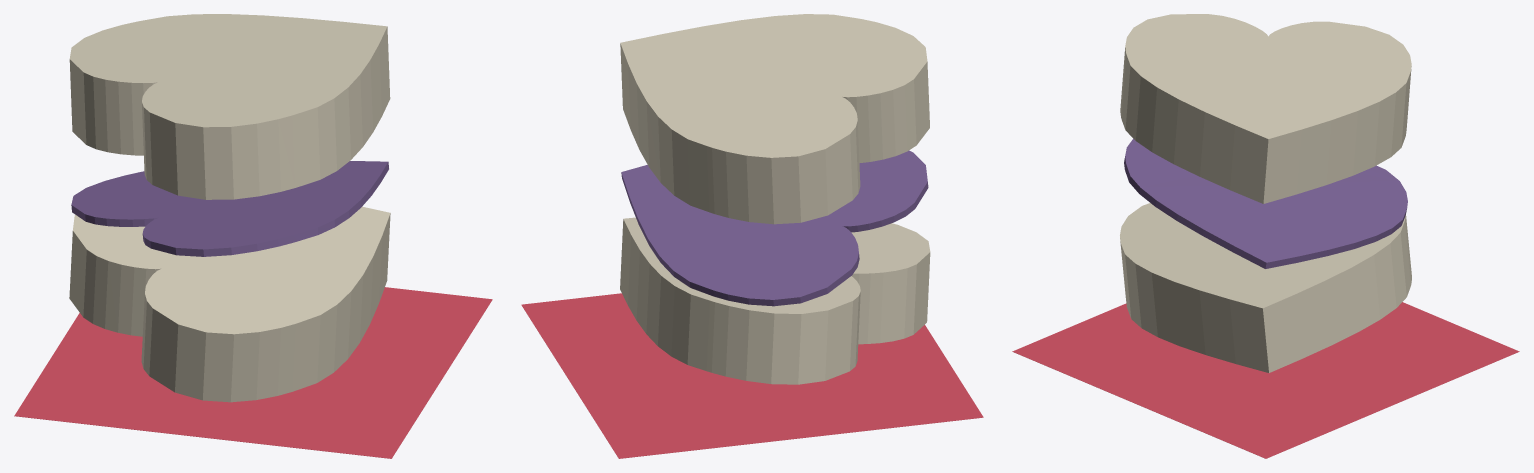
Rendered from VUV.glb.
3 views of the same model, side by side, from view 1: azimuth 30°, elevation 25°; view 2: azimuth 150°, elevation 25°; view 3: azimuth 270°, elevation 25° (orthographic). The views are drawn at different scales.
Visible parts, largest first — view 1: Mesh_Mesh_head_geo.001_lambert2SG.001; view 2: Mesh_Mesh_head_geo.001_lambert2SG.001; view 3: Mesh_Mesh_head_geo.001_lambert2SG.001.
Boxes of the visible parts, x1,y1,x2,y2 form: Mesh_Mesh_head_geo.001_lambert2SG.001: (14, 14, 492, 458); Mesh_Mesh_head_geo.001_lambert2SG.001: (521, 14, 983, 458); Mesh_Mesh_head_geo.001_lambert2SG.001: (1012, 14, 1519, 458).
Size of the model in its own units: 0.0354 by 0.0217 by 0.0354.
